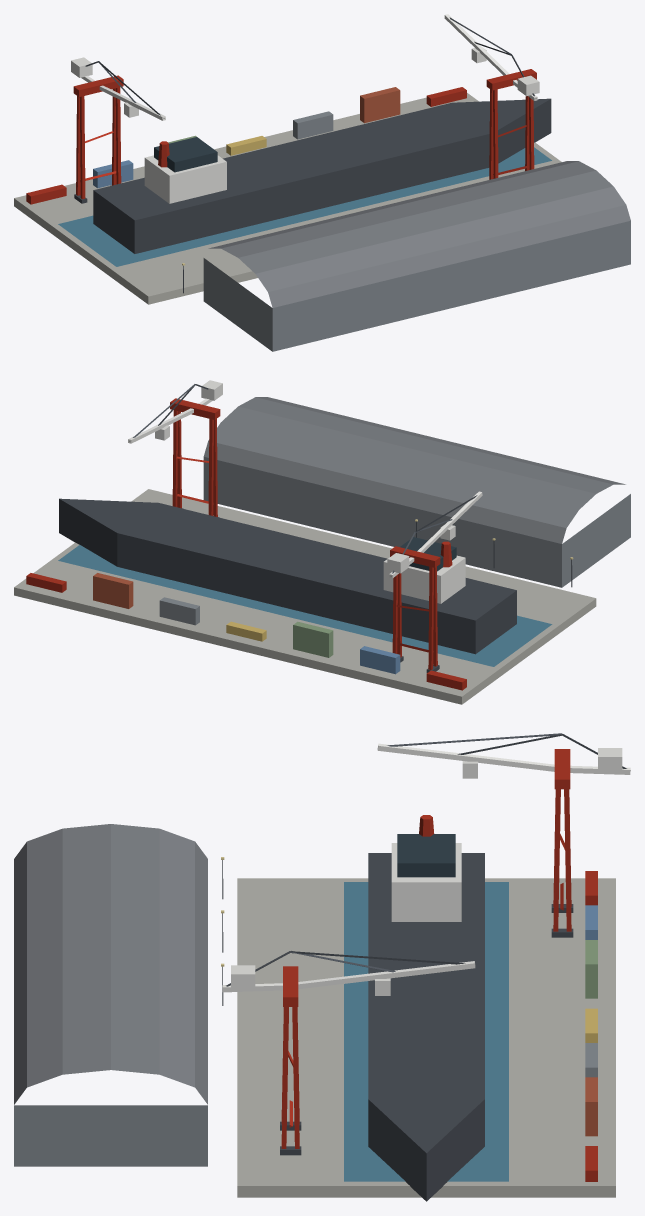
Rendered from mobile.glb.
The picture shows the model from 3 angles, top to bottom: view 1: azimuth 30°, elevation 25°; view 2: azimuth 150°, elevation 25°; view 3: azimuth 270°, elevation 25°; orthographic projection. The views are drawn at different scales.
Parts seen in each view (by area): view 1: lm.hunters-point-yard; view 2: lm.hunters-point-yard; view 3: lm.hunters-point-yard.
Boxes of the visible parts, left/top/right/bottom form: lm.hunters-point-yard: left=14, top=14, right=630, bottom=351; lm.hunters-point-yard: left=14, top=380, right=630, bottom=704; lm.hunters-point-yard: left=14, top=733, right=630, bottom=1201.
Bounding box in the file's own units: 157 × 45.82 × 127.
